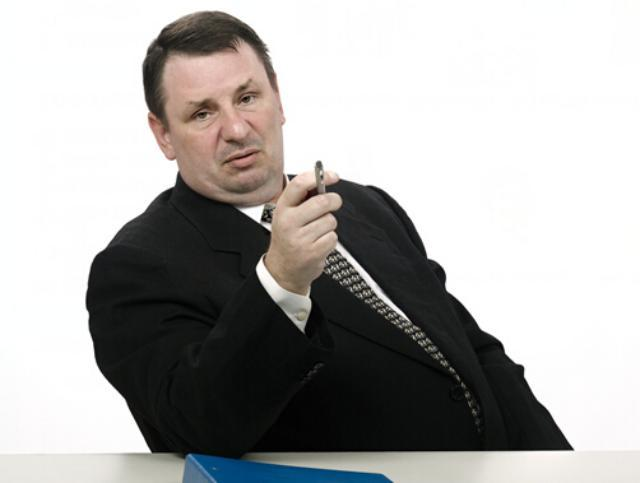SafeDriving: (182, 98, 223, 131), (231, 82, 268, 115)
Smoking: (308, 158, 330, 197)
